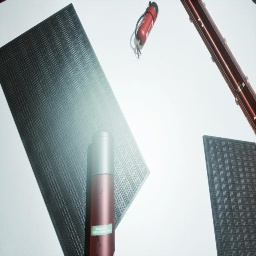FireExtinguisher ]: (135, 1, 159, 59)
NitrogenTank ,: (90, 130, 115, 256)
